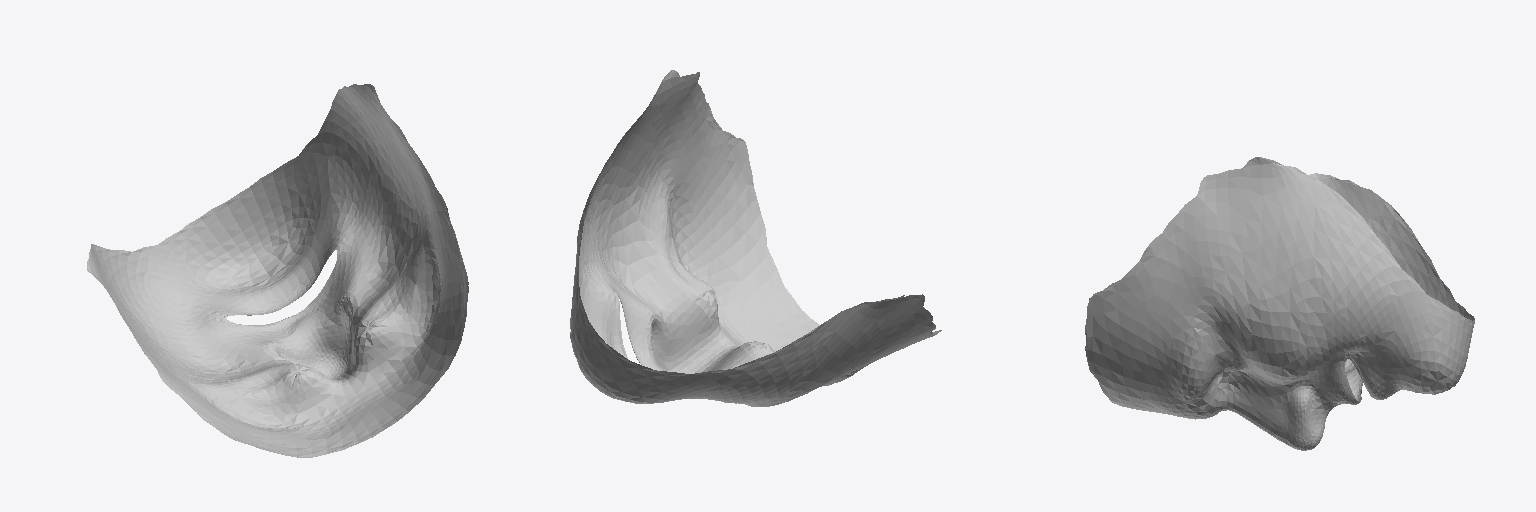
The model's file is face_gab_sfm110.obj.
3 views of the same model, side by side, from view 1: azimuth 30°, elevation 25°; view 2: azimuth 150°, elevation 25°; view 3: azimuth 270°, elevation 25° (orthographic).
Bounding box in the file's own units: 167 × 160 × 187.